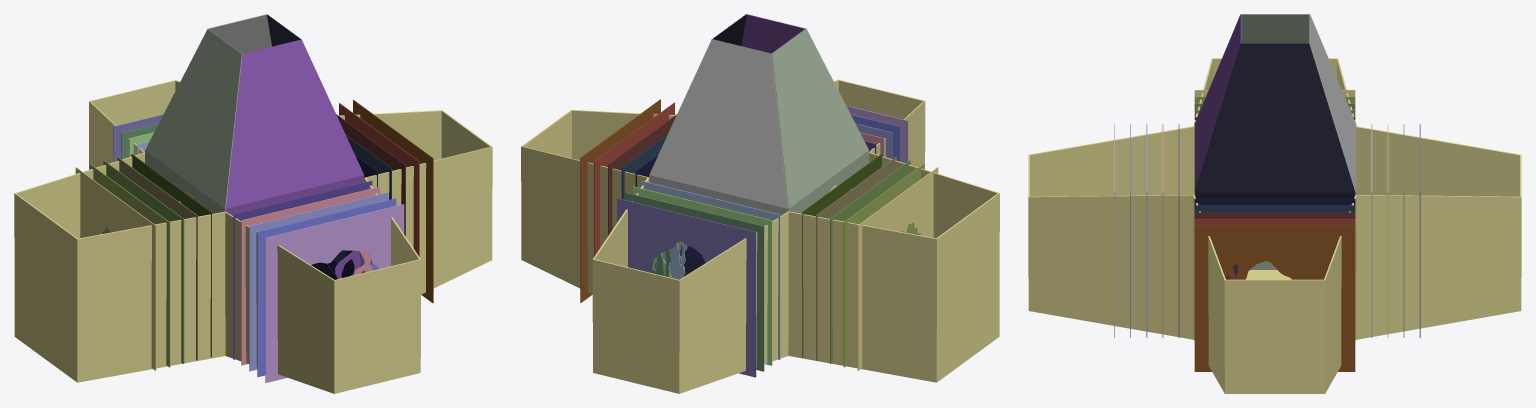
File: fourSides.fbx
3 renders of one model, left to right at view 1: azimuth 30°, elevation 25°; view 2: azimuth 150°, elevation 25°; view 3: azimuth 270°, elevation 25°, orthographic.
Parts seen in each view (by area): view 1: Plane, forest1, Plane.005, forest6, Plane.006, Plane.004, Plane.012, Plane.003, forest5, Plane.011, forest4, Plane.002 (+6 smaller); view 2: Plane, forest1, paper1.002, forest6, paper2.001, Plane.012, paper1.001, paper2, forest5, Plane.011, forest4, forest3 (+7 smaller); view 3: Plane, forest1, Plane.012, Plane.009, Plane.008, Plane.011, Plane.010, paper2, paper1.001, paper2.001, paper1.002, Plane.002 (+2 smaller).
Boxes of the visible parts, bbox=[...] form: Plane: bbox=[14, 80, 492, 393]; forest1: bbox=[145, 14, 364, 279]; Plane.005: bbox=[265, 204, 404, 382]; forest6: bbox=[75, 167, 156, 370]; Plane.006: bbox=[257, 198, 396, 376]; Plane.004: bbox=[249, 192, 388, 371]; Plane.012: bbox=[353, 99, 433, 303]; Plane.003: bbox=[241, 186, 380, 365]; forest5: bbox=[89, 164, 170, 367]; Plane.011: bbox=[339, 103, 419, 256]; forest4: bbox=[103, 160, 184, 363]; Plane.002: bbox=[233, 180, 372, 359]; Plane: bbox=[521, 79, 999, 393]; forest1: bbox=[649, 14, 868, 276]; paper1.002: bbox=[617, 198, 756, 377]; forest6: bbox=[857, 167, 938, 370]; paper2.001: bbox=[625, 192, 764, 371]; Plane.012: bbox=[580, 99, 660, 302]; paper1.001: bbox=[633, 186, 772, 365]; paper2: bbox=[641, 180, 780, 359]; forest5: bbox=[843, 163, 924, 367]; Plane.011: bbox=[594, 102, 674, 256]; forest4: bbox=[830, 160, 910, 363]; forest3: bbox=[816, 157, 896, 360]; Plane: bbox=[1028, 58, 1521, 393]; forest1: bbox=[1194, 14, 1356, 269]; Plane.012: bbox=[1194, 225, 1355, 371]; Plane.009: bbox=[1194, 205, 1355, 273]; Plane.008: bbox=[1194, 198, 1355, 276]; Plane.011: bbox=[1194, 219, 1355, 279]; Plane.010: bbox=[1194, 212, 1355, 279]; paper2: bbox=[1371, 124, 1372, 337]; paper1.001: bbox=[1387, 124, 1388, 337]; paper2.001: bbox=[1403, 124, 1404, 337]; paper1.002: bbox=[1419, 124, 1420, 337]; Plane.002: bbox=[1178, 124, 1179, 337].
Size of the model in its own units: 3044 by 1899 by 3068.
